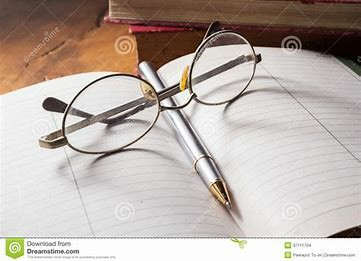pen: (139, 62, 232, 207)
